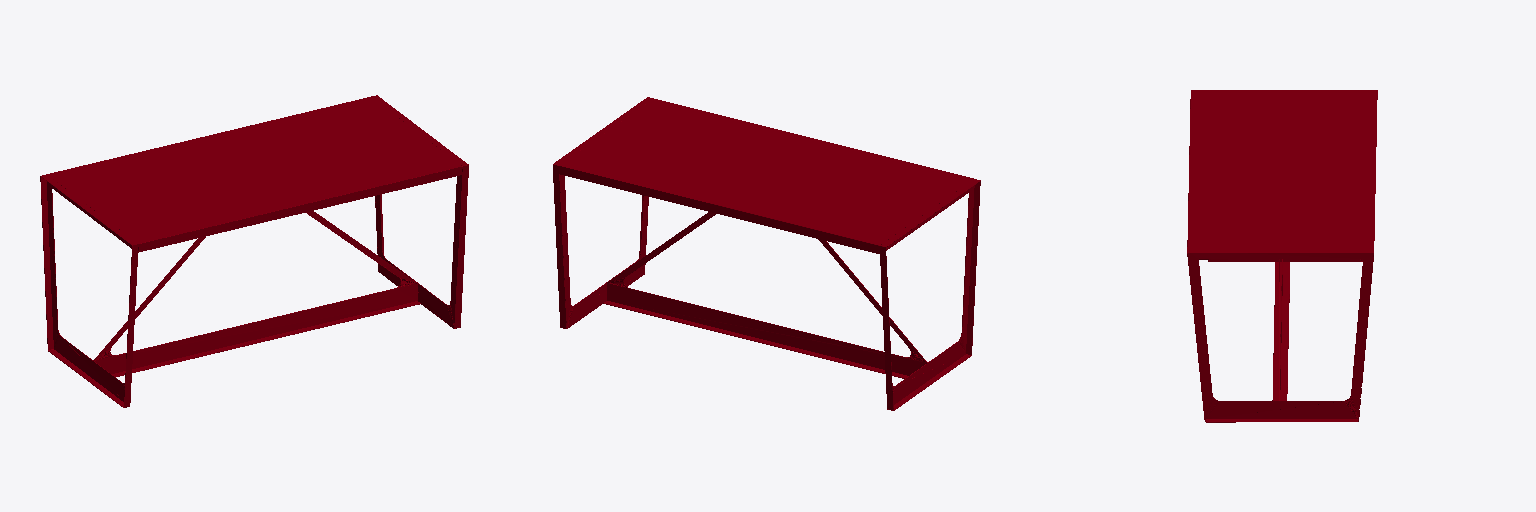
File: table05.obj
The picture shows the model from 3 angles: view 1: azimuth 30°, elevation 25°; view 2: azimuth 150°, elevation 25°; view 3: azimuth 270°, elevation 25°; orthographic projection.
Visible parts, largest first — view 1: Object.1, Object.3, Object.2; view 2: Object.1, Object.3, Object.2; view 3: Object.1, Object.3.
Boxes of the visible parts, <box> form: Object.1: <box>47,97,461,243</box>; Object.3: <box>40,95,468,407</box>; Object.2: <box>61,166,462,252</box>; Object.1: <box>559,99,972,245</box>; Object.3: <box>553,97,980,410</box>; Object.2: <box>559,153,973,253</box>; Object.1: <box>1187,93,1377,249</box>; Object.3: <box>1187,90,1377,422</box>.
Size of the model in its own units: 61.73 by 29.9 by 41.43.